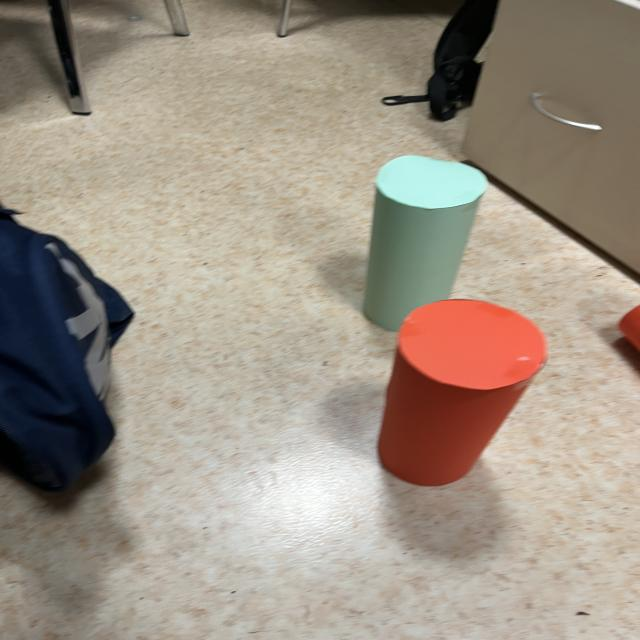meta: (363, 156, 488, 332)
przeszkoda: (378, 299, 547, 486)
